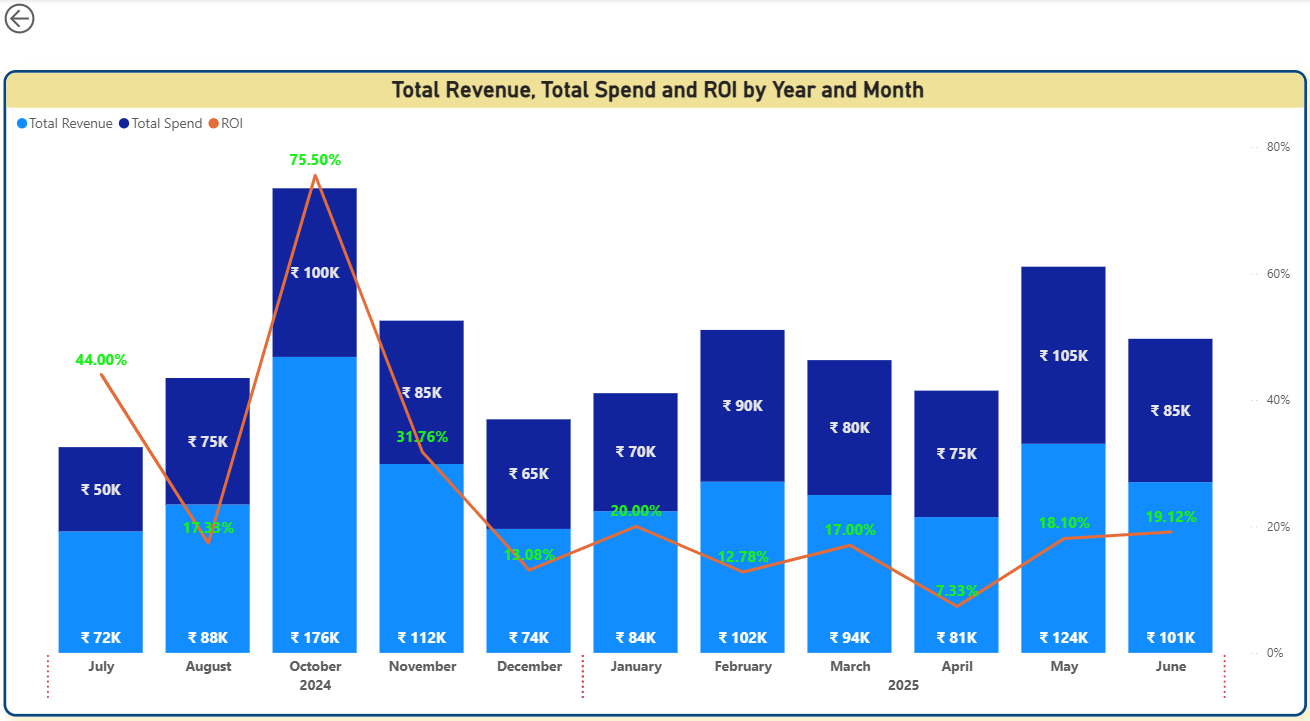

The page's visual inventory and layout, read from the dashboard file:
{"tool":"powerbi","page":{"name":"Page 3","canvas":[1280,720],"ordinal":2},"visuals":[{"type":"lineStackedColumnComboChart","fields":{"Category":["GlowUp_Campaigns (2).StartDate.Variation.Date Hierarchy.Year","GlowUp_Campaigns (2).StartDate.Variation.Date Hierarchy.Month"],"Y":["GlowUp_Campaigns (2).Total Revenue","GlowUp_Campaigns (2).Total Spend"],"Y2":["GlowUp_Campaigns (2).ROI"]},"box":[4.4,70.2,1270,629.9],"z":0},{"type":"actionButton","box":[0,0,100,40],"z":1000}]}

Visuals, with their boxes in screenshot pixels (x1, y1, x2, y2):
lineStackedColumnComboChart - GlowUp_Campaigns (2).StartDate.Variation.Date Hierarchy.Year x GlowUp_Campaigns (2).StartDate.Variation.Date Hierarchy.Month: <region>1, 68, 1299, 712</region>
actionButton: <region>0, 0, 99, 37</region>
